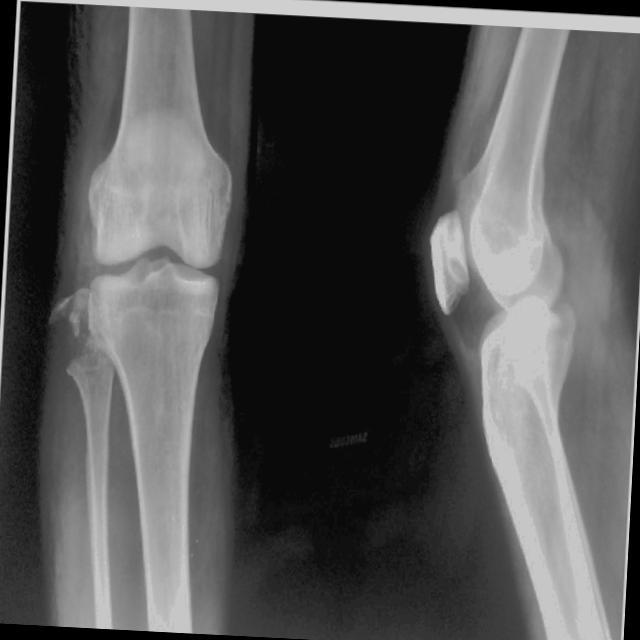Avlusion Fracture: (48, 282, 98, 344)
